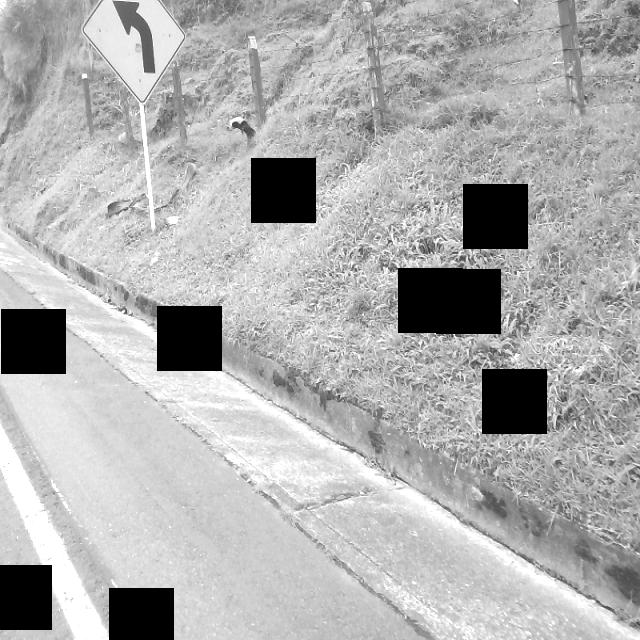DITCH: (1, 217, 639, 638)
